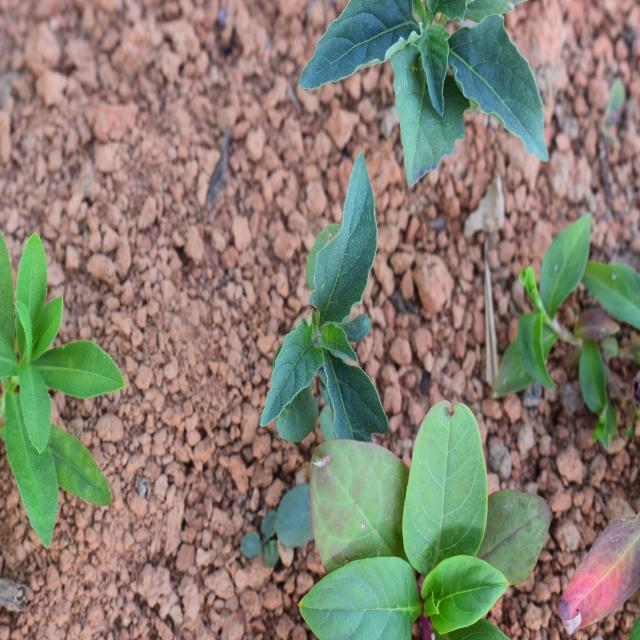Black_nightshade: (308, 0, 553, 172), (256, 150, 397, 434)
